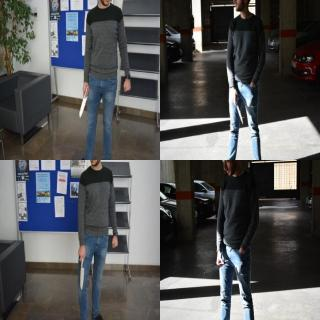knife: (202, 258, 228, 275), (78, 85, 88, 118), (233, 96, 243, 126), (79, 254, 85, 291)
